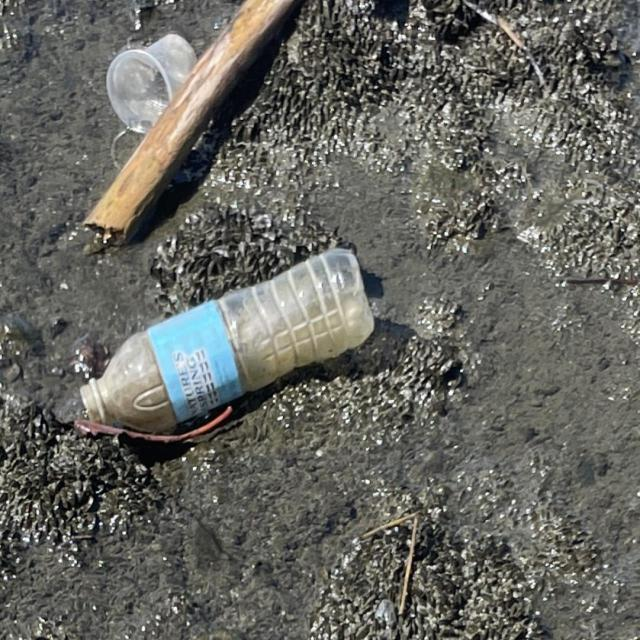plastic_waste: (80, 244, 380, 446), (105, 28, 199, 130)
